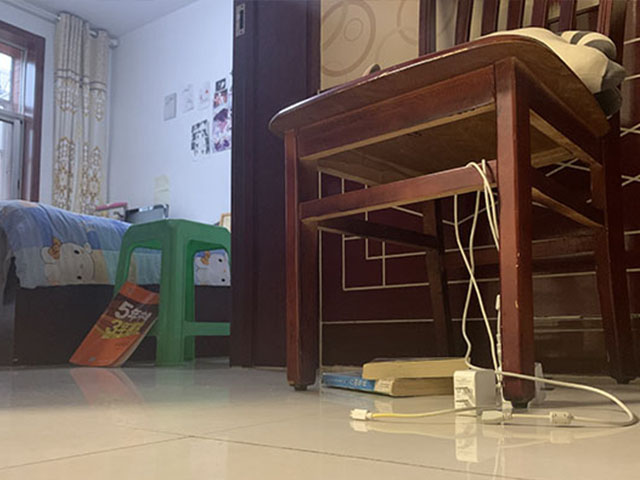bed: (1, 201, 232, 368)
book: (67, 279, 161, 369), (319, 353, 473, 400)
stool: (266, 1, 640, 410), (108, 216, 236, 367)
wire: (346, 354, 640, 431), (456, 158, 500, 349)
